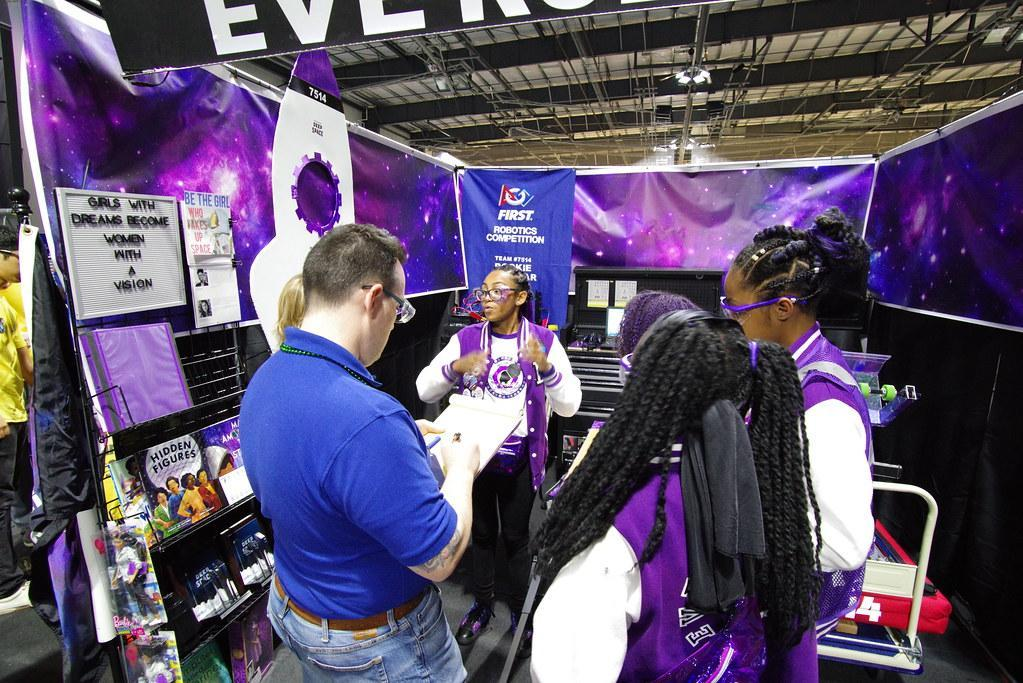robot: (710, 300, 959, 643)
